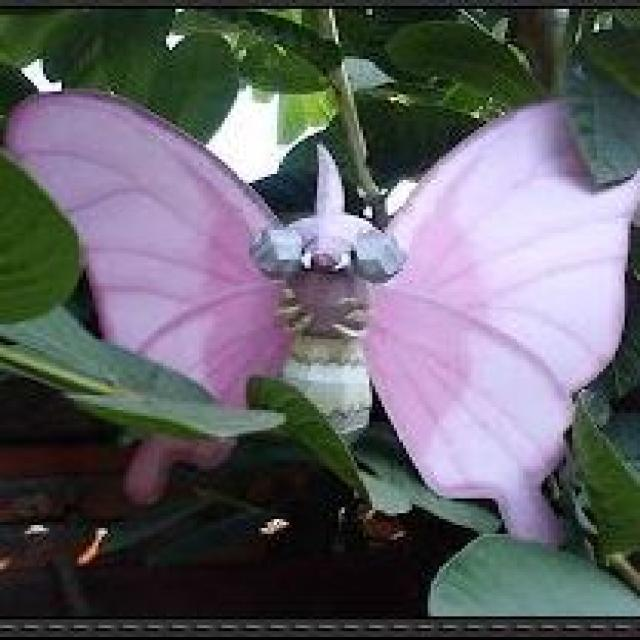Venomoth: (113, 140, 527, 506)
